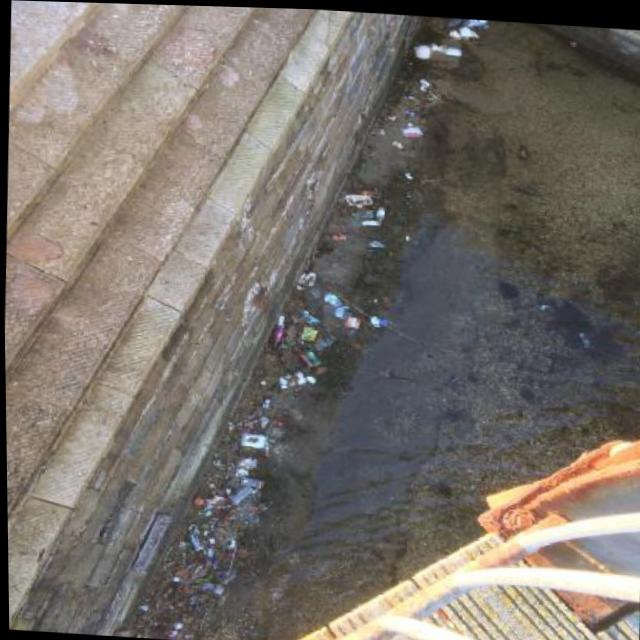glass: (240, 475, 263, 489)
metal: (185, 531, 204, 551), (227, 551, 233, 557)
plastic: (227, 484, 252, 509), (302, 346, 321, 365), (358, 189, 383, 199), (271, 326, 284, 345), (337, 187, 347, 203)
